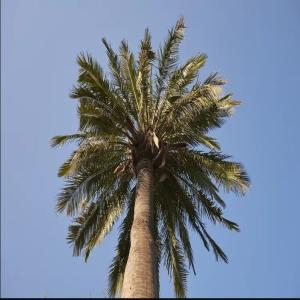palm tree: (49, 14, 252, 298)
